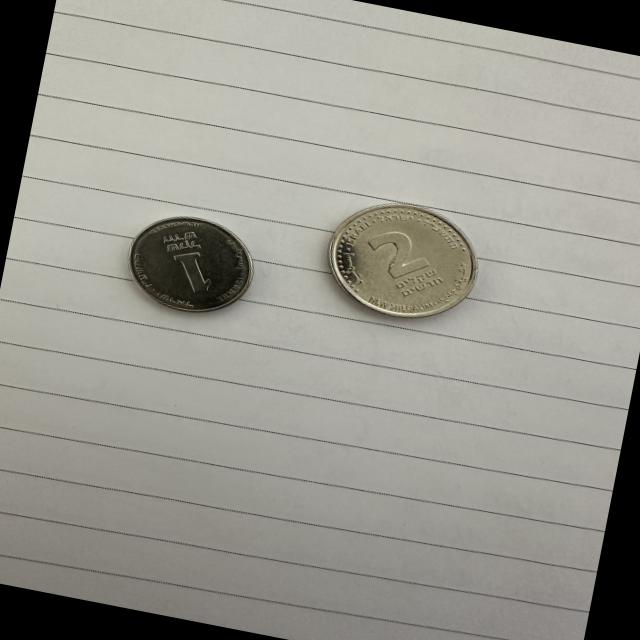1-shekel: (119, 207, 264, 323)
2-shekel: (316, 191, 489, 336)
